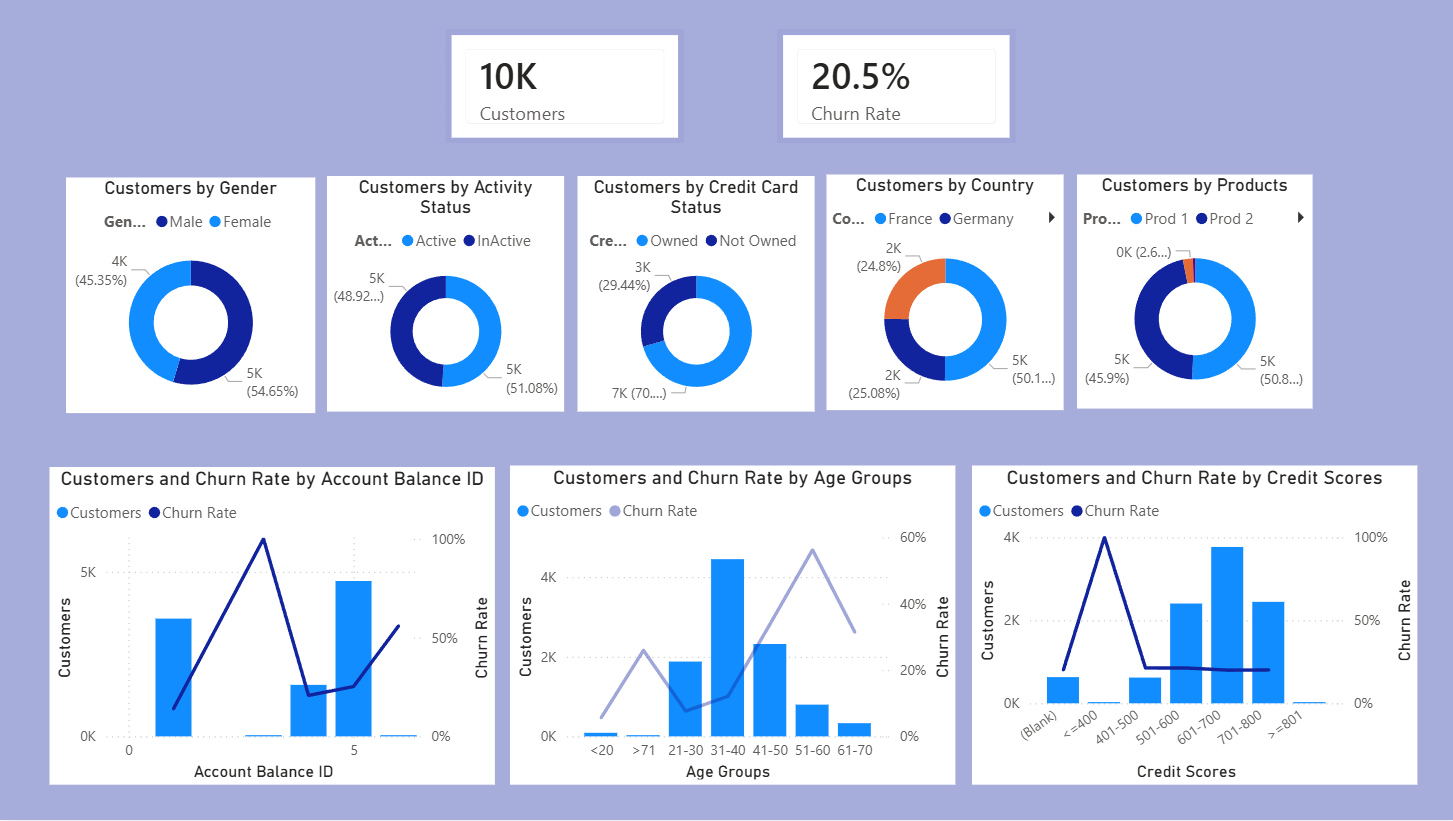

This screenshot's page, from the dashboard's own definition file:
{"tool":"powerbi","page":{"name":"Page 1","canvas":[1280,720],"ordinal":0},"visuals":[{"type":"cardVisual","fields":{"Data":["Customer Data.Customers"]},"box":[390.8,26.3,209.2,100],"z":0},{"type":"cardVisual","fields":{"Data":["Customer Data.Churn Rate"]},"box":[681.6,26.3,209.2,100],"z":1000},{"type":"donutChart","fields":{"Category":["Customer Data.Gender"],"Y":["Customer Data.Customers"]},"box":[57.9,156.6,218.4,206.6],"z":2000},{"type":"donutChart","fields":{"Y":["Customer Data.Customers"],"Category":["Customer Data.Activity Status"]},"box":[286.8,155.3,207.9,206.6],"z":2001},{"type":"donutChart","fields":{"Y":["Customer Data.Customers"],"Category":["Customer Data.Credit Card Status"]},"box":[506.6,155.3,207.9,206.6],"z":2002},{"type":"donutChart","fields":{"Y":["Customer Data.Customers"],"Category":["Customer Data.Country"]},"box":[725,153.9,207.9,206.6],"z":2003},{"type":"donutChart","fields":{"Y":["Customer Data.Customers"],"Category":["Customer Data.Products"]},"box":[944.7,153.9,206.6,205.3],"z":2004},{"type":"lineStackedColumnComboChart","fields":{"Y":["Customer Data.Customers"],"Y2":["Customer Data.Churn Rate"],"Category":["Age Groups.Age Groups"]},"box":[447.4,409.2,390.8,280.3],"z":2005},{"type":"lineStackedColumnComboChart","fields":{"Y":["Customer Data.Customers"],"Y2":["Customer Data.Churn Rate"],"Category":["Credit Score.Credit Scores"]},"box":[852.6,409.2,390.8,280.3],"z":2006},{"type":"lineStackedColumnComboChart","fields":{"Y":["Customer Data.Customers"],"Y2":["Customer Data.Churn Rate"],"Category":["Account Balance Groups.Account Balance ID"]},"box":[43.4,410.5,390.8,278.9],"z":2007}]}

Visuals, with their boxes in screenshot pixels (x1, y1, x2, y2), scaled from the page's 1280x720 canvas onto the 1453x821 screenshot:
cardVisual - Customer Data.Customers: [444, 30, 681, 144]
cardVisual - Customer Data.Churn Rate: [774, 30, 1011, 144]
donutChart - Customer Data.Gender x Customer Data.Customers: [66, 179, 314, 414]
donutChart - Customer Data.Customers x Customer Data.Activity Status: [326, 177, 562, 413]
donutChart - Customer Data.Customers x Customer Data.Credit Card Status: [575, 177, 811, 413]
donutChart - Customer Data.Customers x Customer Data.Country: [823, 175, 1059, 411]
donutChart - Customer Data.Customers x Customer Data.Products: [1072, 175, 1307, 410]
lineStackedColumnComboChart - Customer Data.Customers x Customer Data.Churn Rate: [508, 467, 951, 786]
lineStackedColumnComboChart - Customer Data.Customers x Customer Data.Churn Rate: [968, 467, 1411, 786]
lineStackedColumnComboChart - Customer Data.Customers x Customer Data.Churn Rate: [49, 468, 493, 786]
